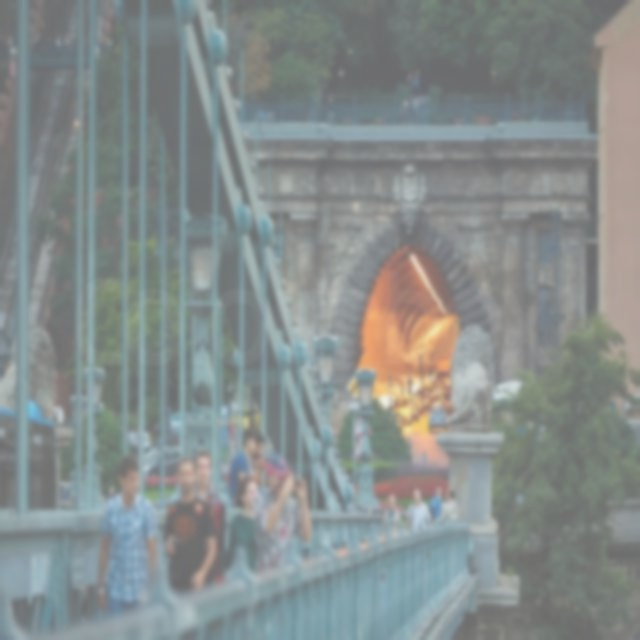pessoa: (97, 452, 160, 622), (162, 452, 220, 594), (254, 454, 314, 574), (192, 448, 228, 582), (226, 475, 264, 573), (228, 427, 265, 508), (404, 485, 434, 534), (134, 416, 162, 462), (380, 492, 402, 544), (250, 430, 266, 493), (434, 488, 460, 524), (427, 486, 444, 524), (438, 486, 456, 521), (128, 425, 138, 460), (61, 479, 74, 504), (105, 482, 116, 504), (407, 374, 414, 396), (144, 430, 150, 454)
